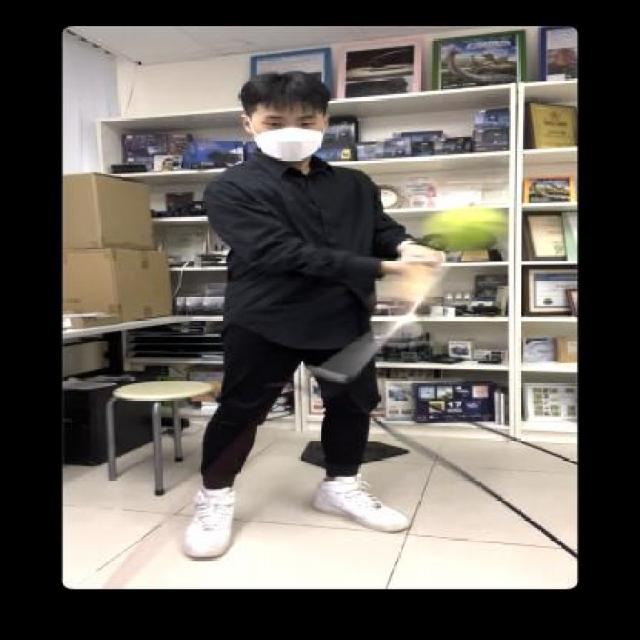baseball: (417, 200, 509, 254)
